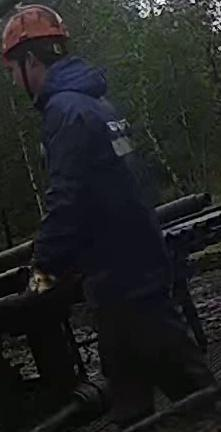gloves: (19, 259, 70, 334)
helmet: (0, 3, 70, 63)
vest: (31, 94, 176, 312)
